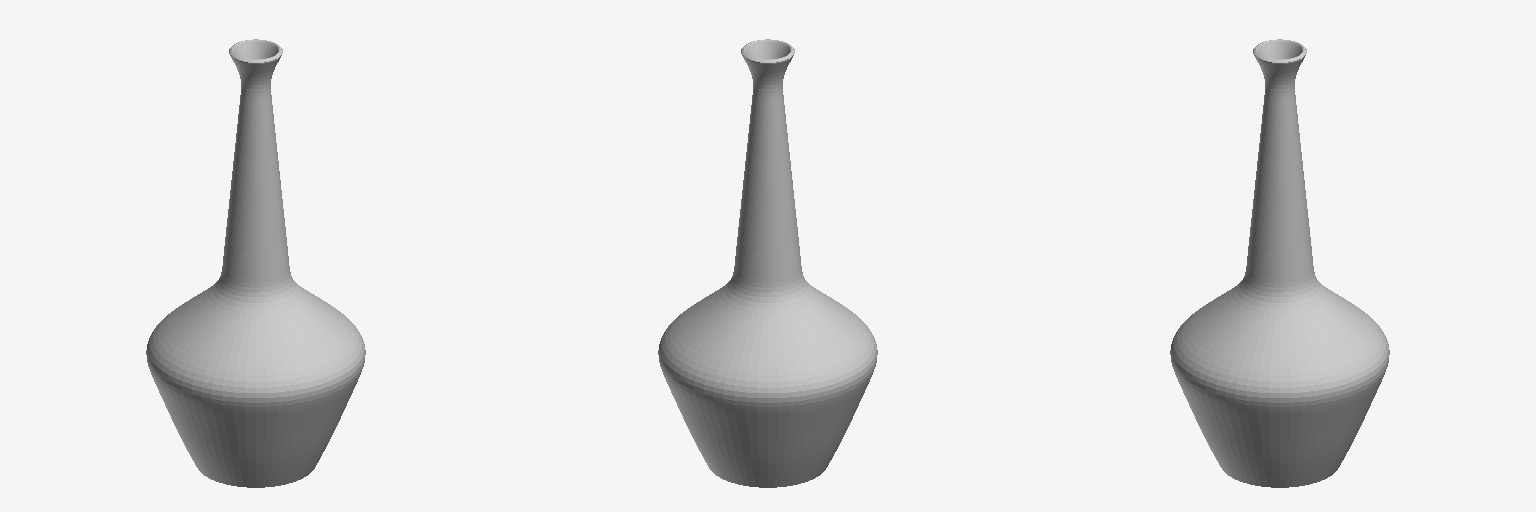
File: vase.obj
3 views of the same model, side by side, from view 1: azimuth 30°, elevation 25°; view 2: azimuth 150°, elevation 25°; view 3: azimuth 270°, elevation 25° (orthographic).
Parts seen in each view (by area): view 1: vase4:Mesh vase5; view 2: vase4:Mesh vase5; view 3: vase4:Mesh vase5.
Part boxes in pixels (bbox=[...]): vase4:Mesh vase5: bbox=[146, 39, 365, 487]; vase4:Mesh vase5: bbox=[658, 39, 877, 487]; vase4:Mesh vase5: bbox=[1170, 39, 1389, 487].
Bounding box in the file's own units: 0.9454 × 1.96 × 0.9454.